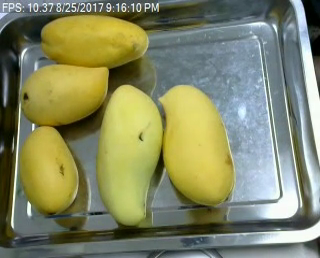Mango: (96, 84, 163, 227), (161, 82, 234, 205), (40, 14, 149, 72), (21, 63, 112, 126), (20, 125, 83, 214)
